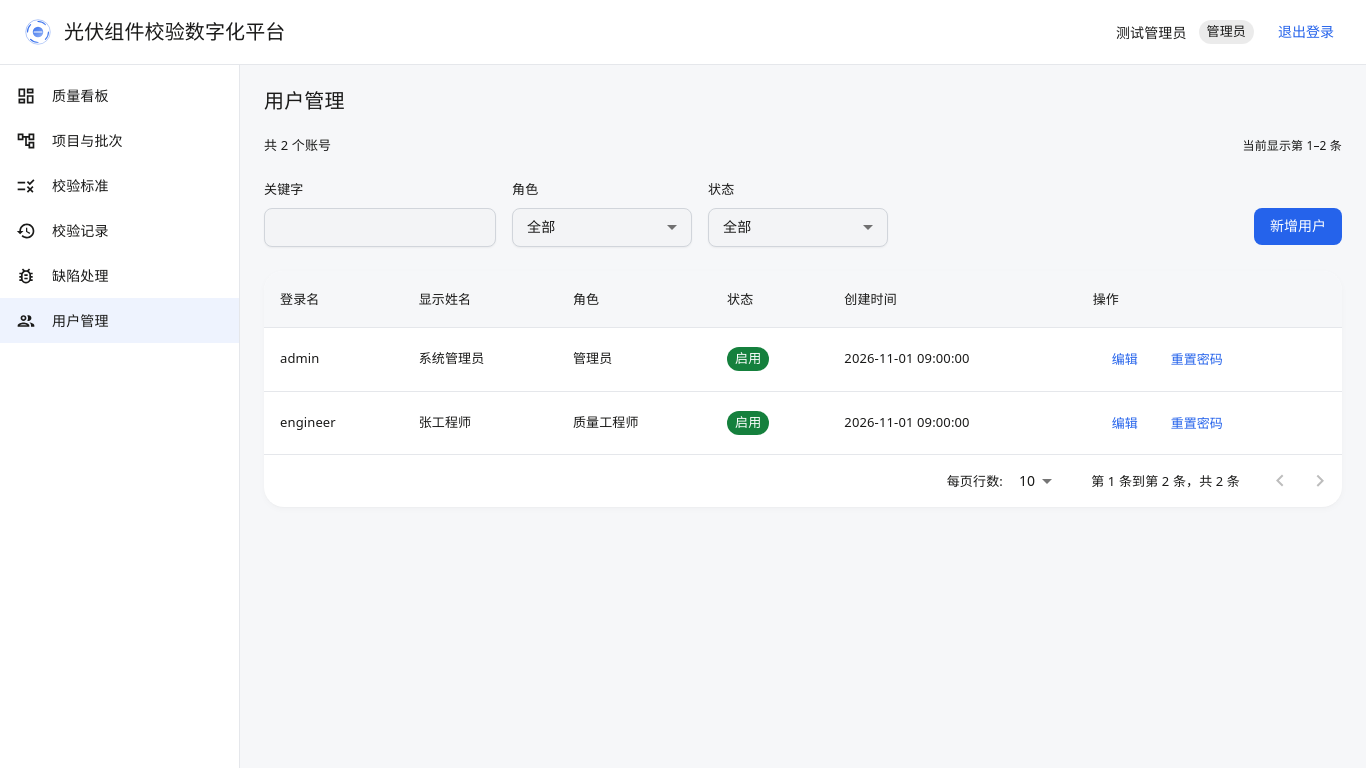
it: 重置密码弹窗的密码可切换显示
Click the button "重置密码" in the row of "admin": (1197, 359) [1165,344,1229,375]
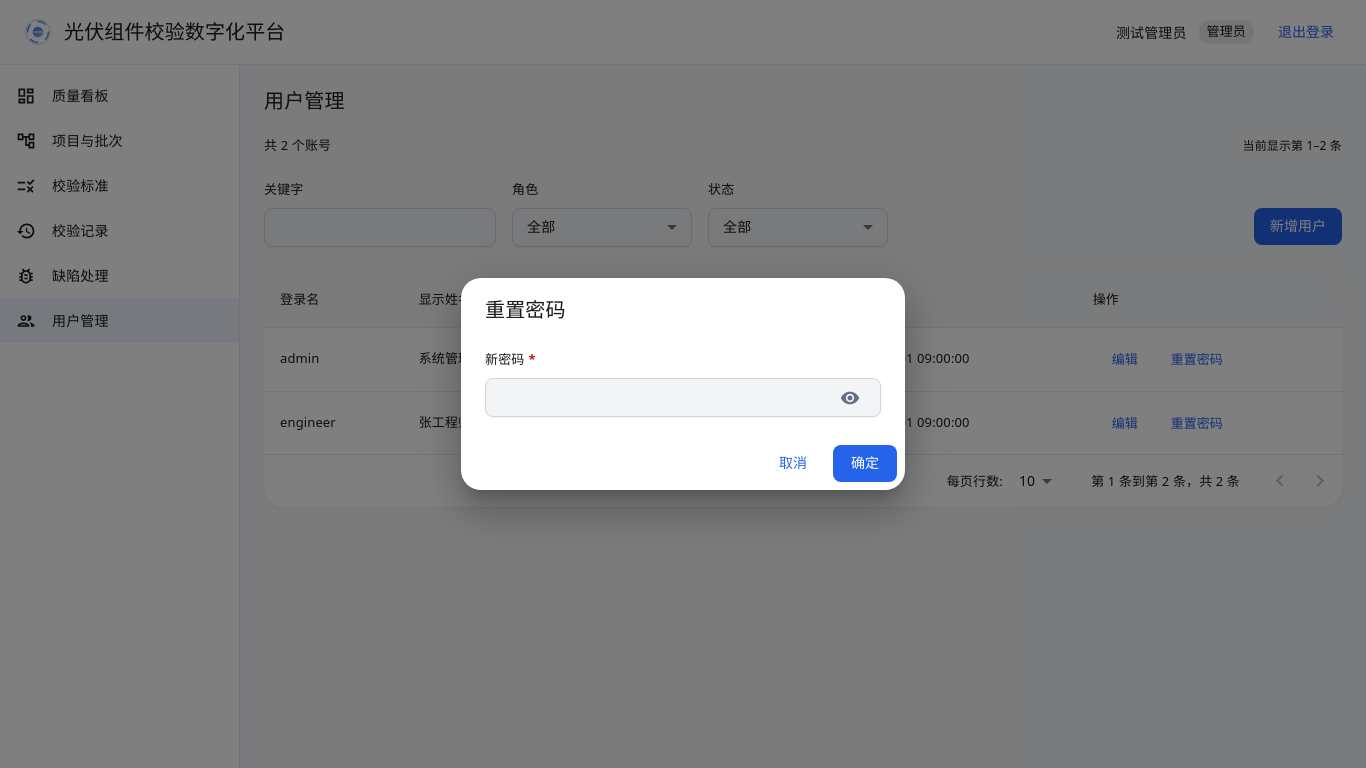
In the password field labelled "新密码": (656, 397) [486,379,827,416], type "Reset@12345"
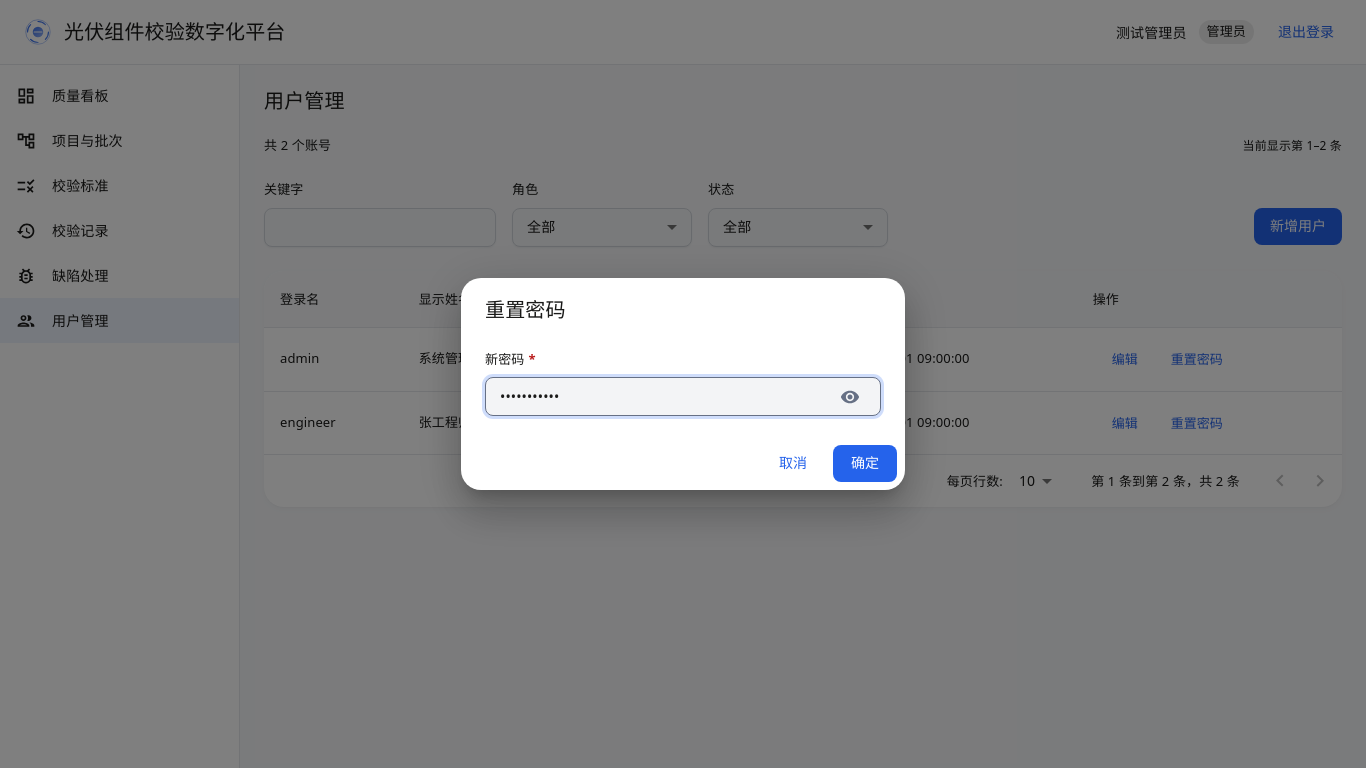
Click the button named "显示密码": (850, 396) [835,382,865,412]
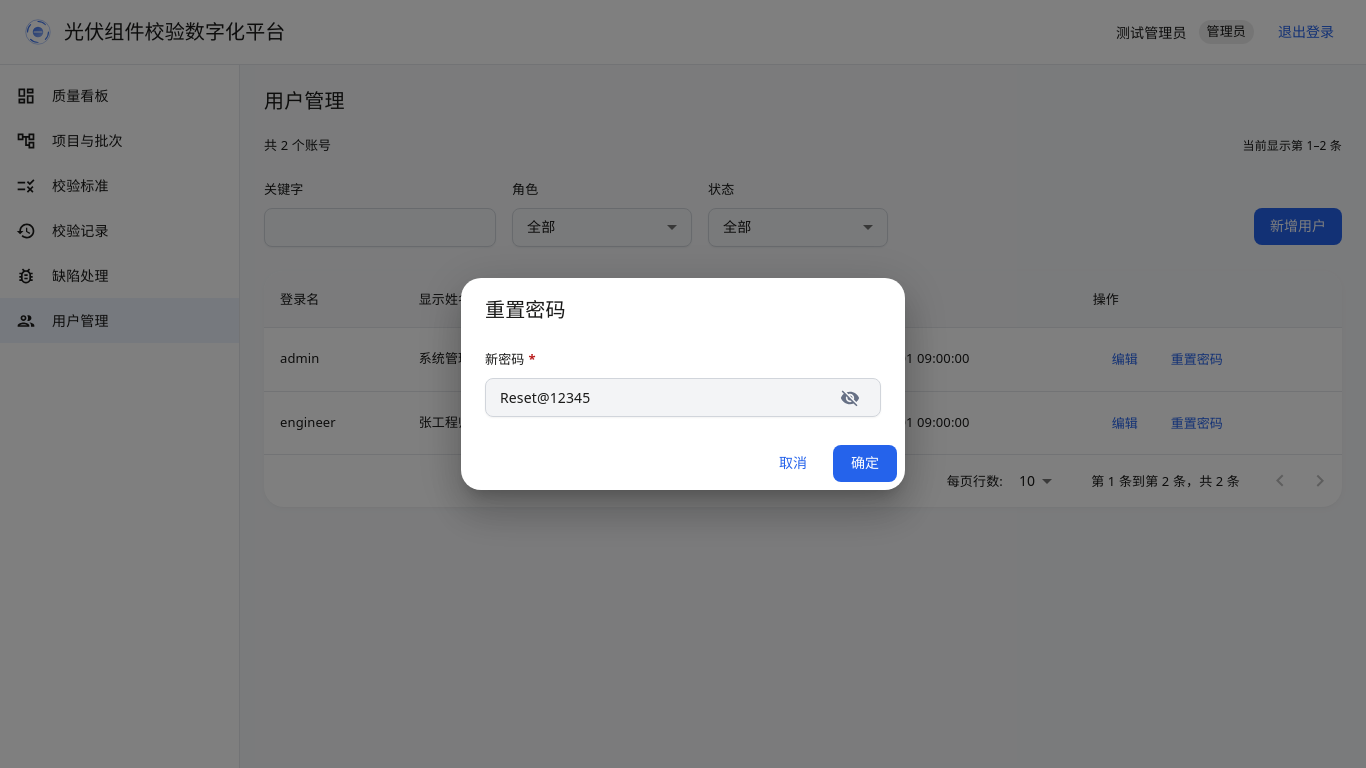
Check: the field labelled "新密码" shows its text, box [486,379,827,416]
